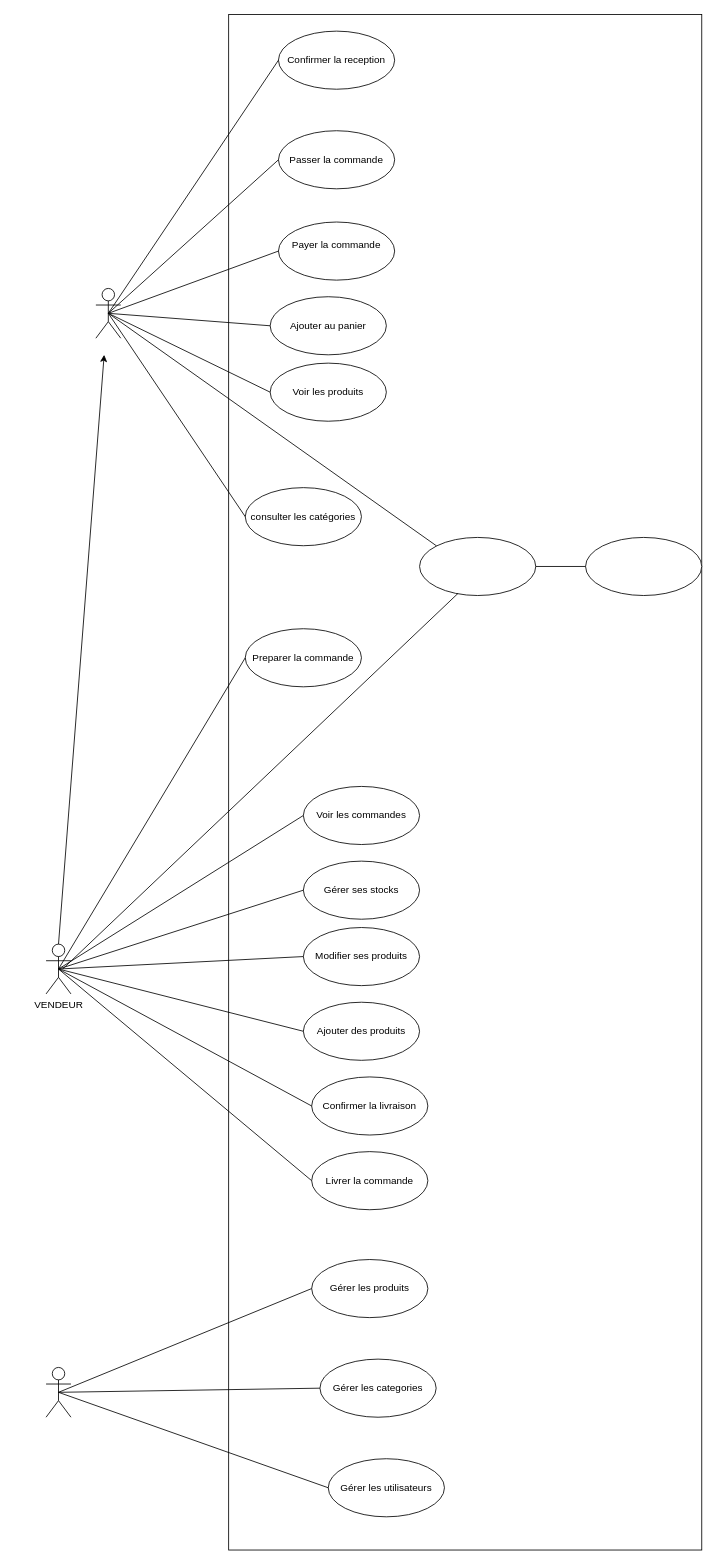
This 716x1565 diagram has some shape labels left out. The centre of each missing label's shape, as x and y in pixels:
ADMINISTRATEUR: the point at 58,1392
CLIENT: the point at 108,313
S'inscrire: the point at 477,566
Se Connecter: the point at 643,566
